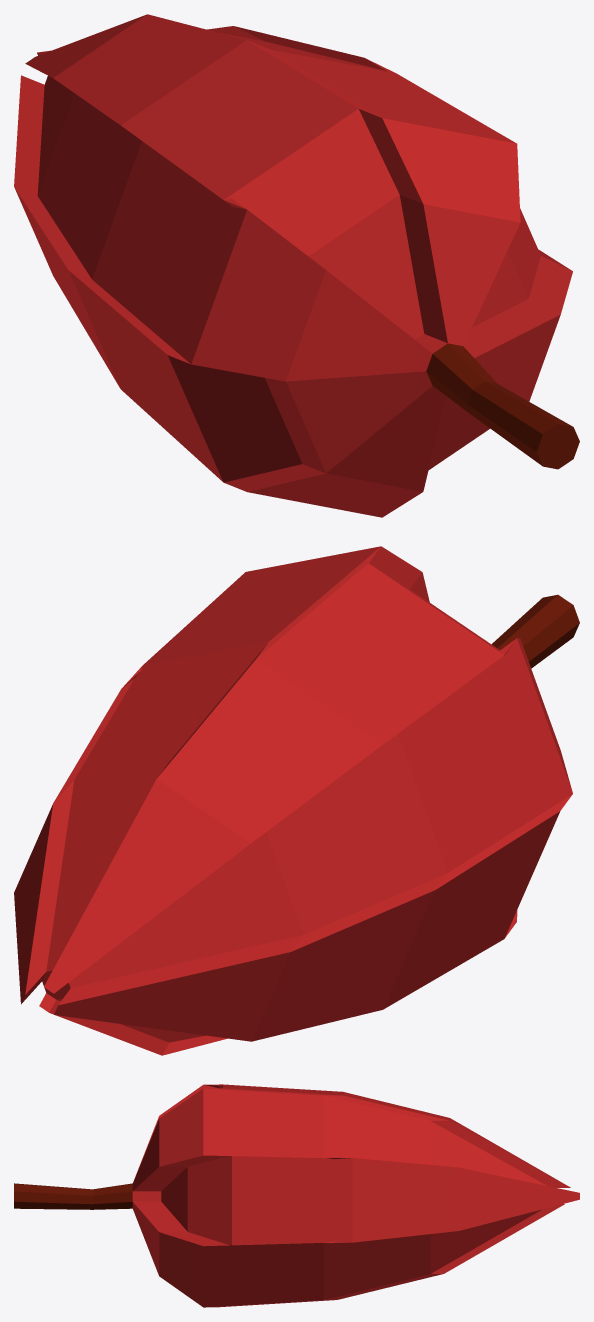
File: tree1.fbx
3 renders of one model, top to bottom at view 1: azimuth 30°, elevation 25°; view 2: azimuth 150°, elevation 25°; view 3: azimuth 270°, elevation 25°, orthographic. The views are drawn at different scales.
Visible parts, largest first — view 1: tree; view 2: tree; view 3: tree.
Boxes of the visible parts, left/top/right/bottom form: tree: left=14, top=14, right=579, bottom=517; tree: left=14, top=546, right=579, bottom=1055; tree: left=14, top=1084, right=579, bottom=1307.
Size of the model in its own units: 86.99 by 86.26 by 205.
